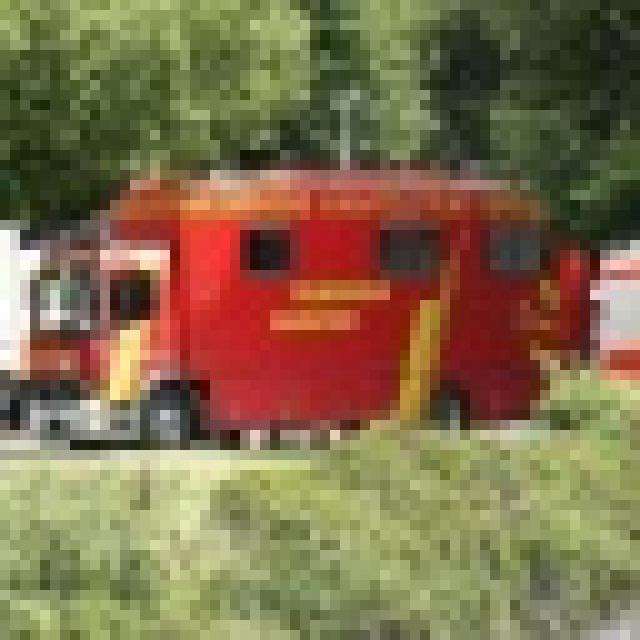Ambulance: (0, 160, 600, 440)
